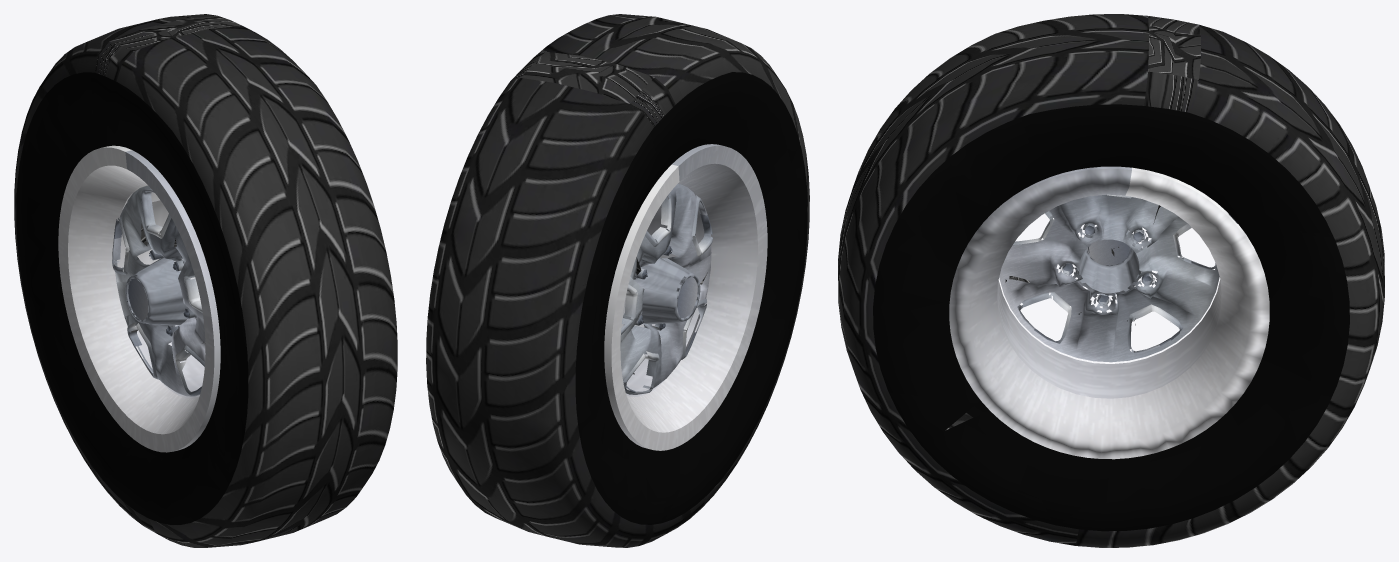
Rendered from LlantaLucas.obj.
The picture shows the model from 3 angles, left to right: view 1: azimuth 30°, elevation 25°; view 2: azimuth 150°, elevation 25°; view 3: azimuth 270°, elevation 25°; orthographic projection. The views are drawn at different scales.
Visible parts, largest first — view 1: Llanta.004_M_Wheel, Llanta.004_M_Wheel.004; view 2: Llanta.004_M_Wheel, Llanta.004_M_Wheel.004; view 3: Llanta.004_M_Wheel, Llanta.004_M_Wheel.004.
Part boxes in pixels (box(x1,y1,x2,y2)): Llanta.004_M_Wheel: box(14, 14, 397, 547); Llanta.004_M_Wheel.004: box(58, 145, 220, 452); Llanta.004_M_Wheel: box(426, 14, 809, 547); Llanta.004_M_Wheel.004: box(604, 144, 767, 450); Llanta.004_M_Wheel: box(838, 14, 1384, 547); Llanta.004_M_Wheel.004: box(949, 166, 1269, 459).
Size of the model in its own units: 1.06 by 3.15 by 3.19.
Materials: 2 (2 with a texture image).
